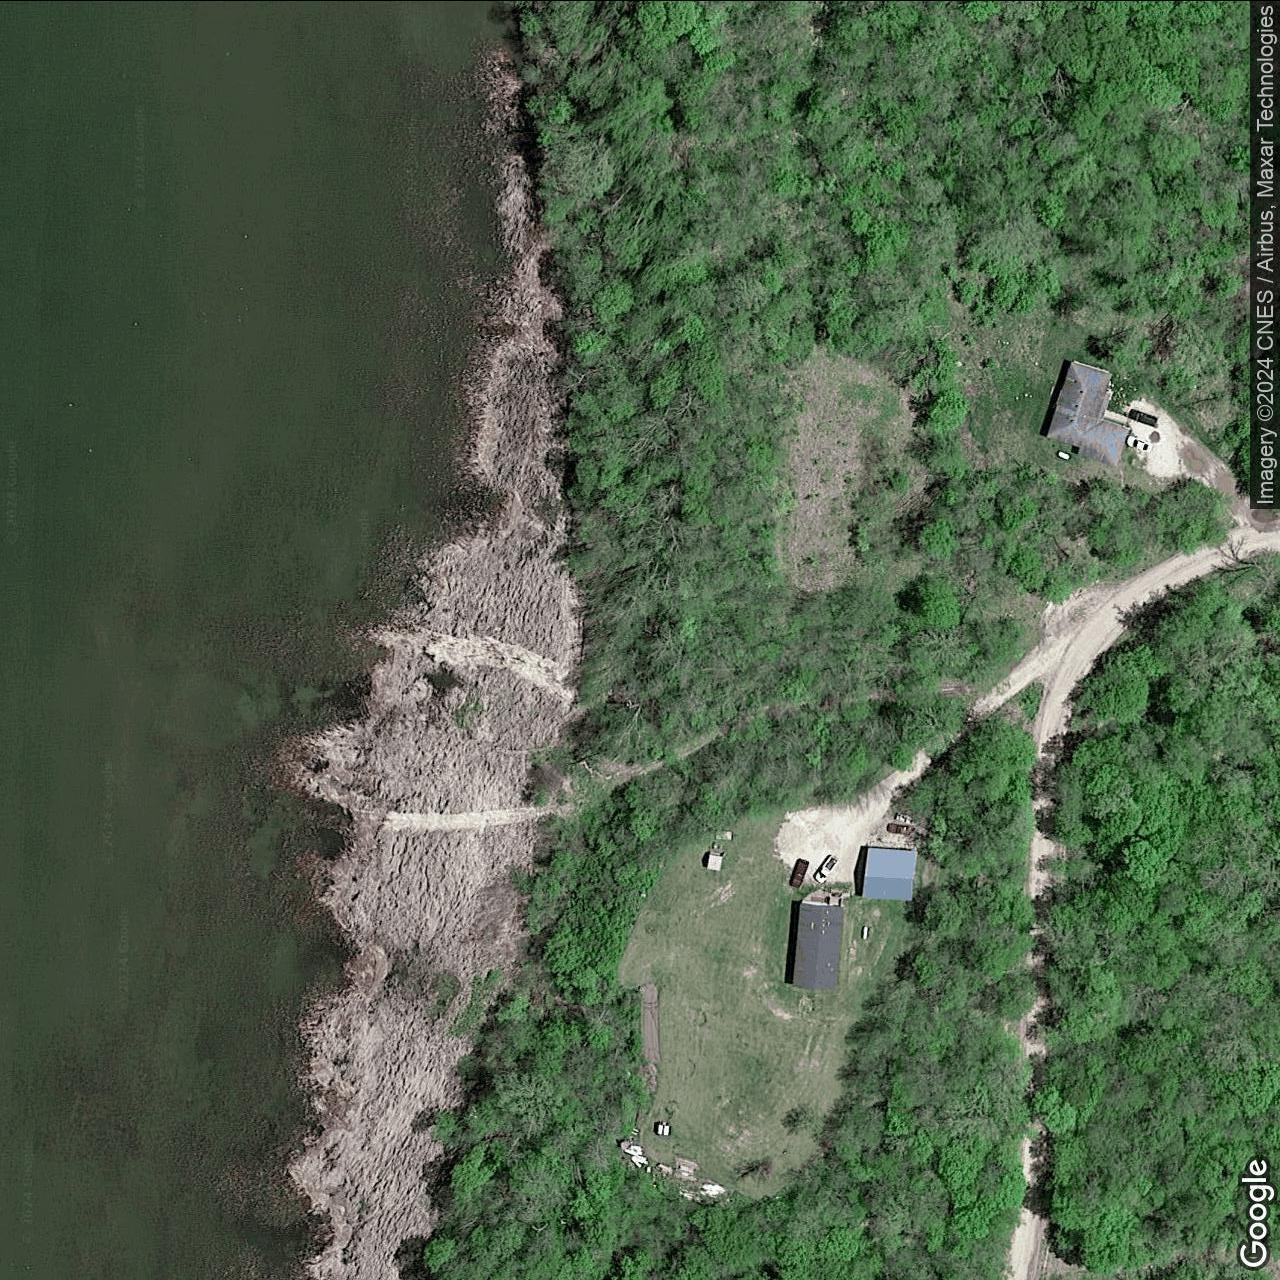Garage: (862, 845, 918, 900)
House: (1044, 358, 1132, 468), (791, 899, 844, 990)
Propane: (1054, 448, 1071, 461), (862, 925, 871, 940)
